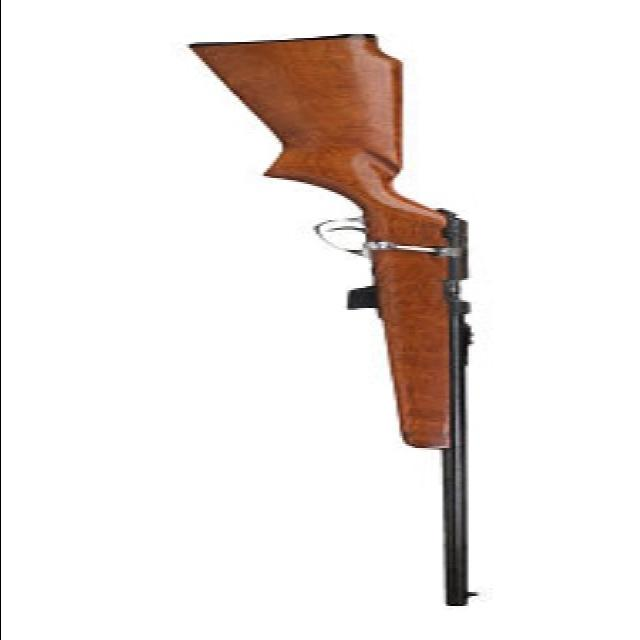rifle: (189, 23, 486, 613)
